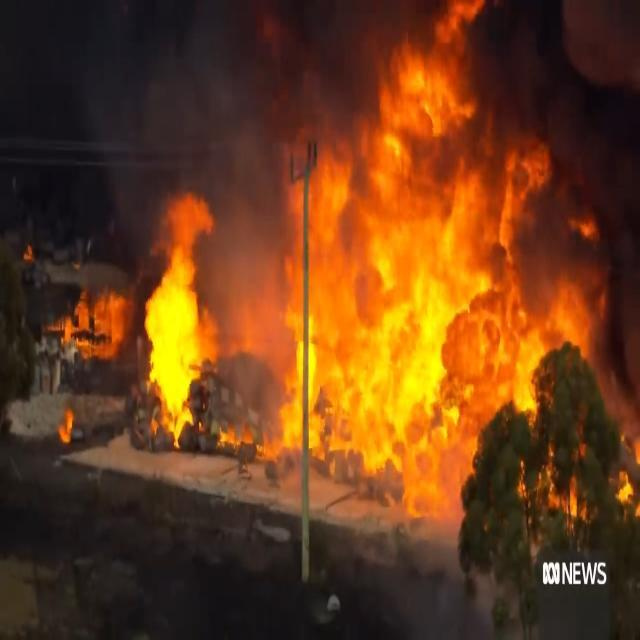fire: (99, 1, 604, 523), (51, 394, 80, 441)
